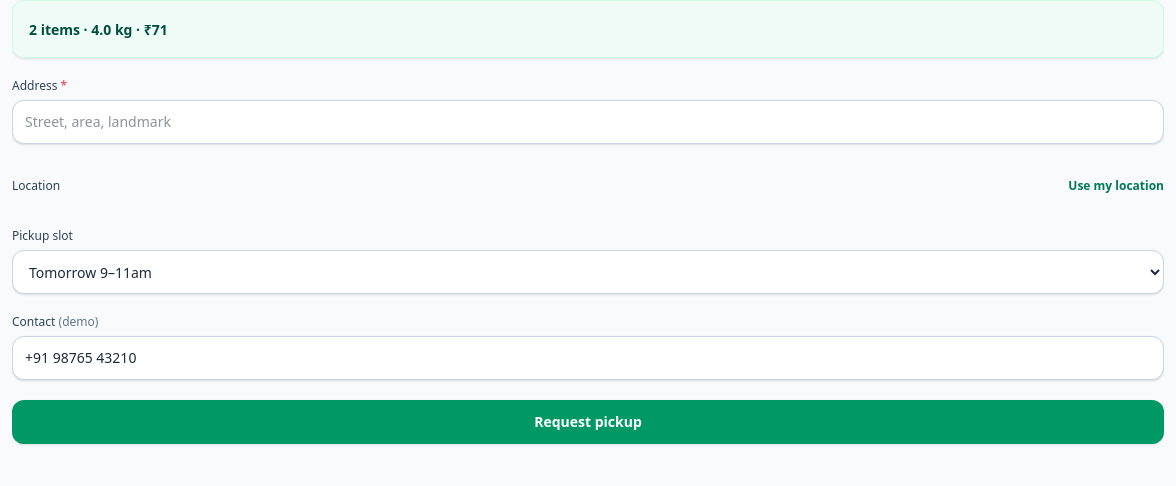
Scenario: PickupRequestForm › geolocation button sets the pin text
What coordinates should you click on to do the following:
click the button "Use my location"
I would click on:
 (1116, 186)
Its box is [1068,164,1164,208].
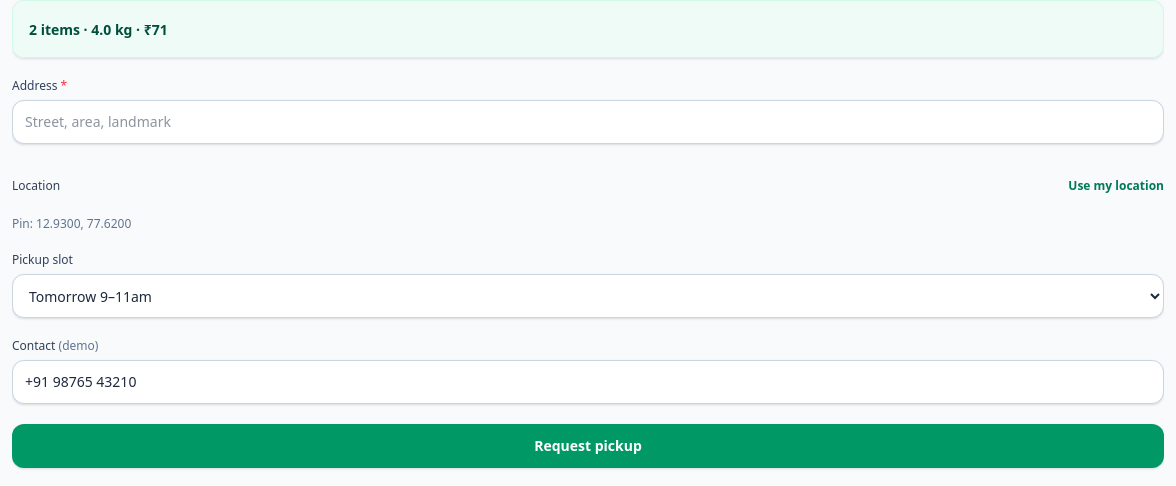
Check: the text "Pin: 12.9300, 77.6200" is shown, box [12,215,131,232]
